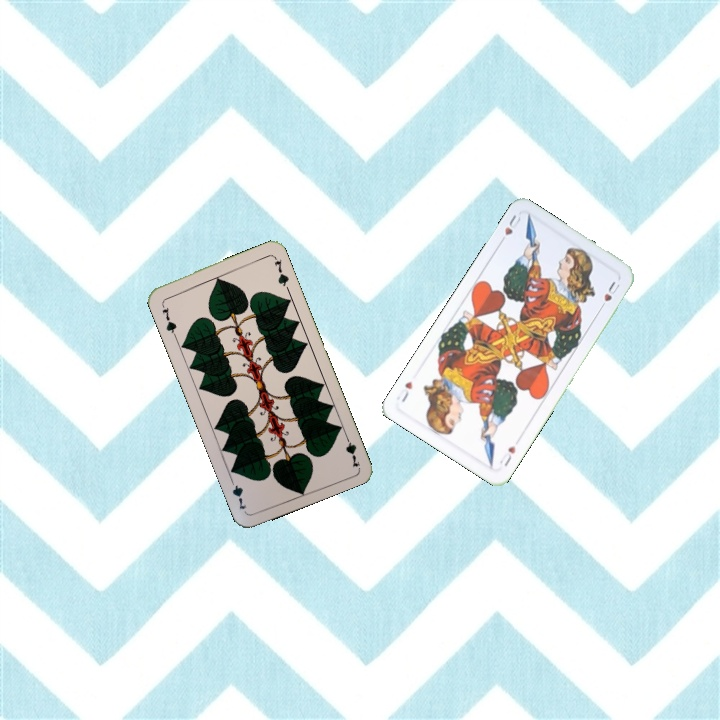G7: (340, 429, 362, 470), (157, 299, 179, 338)
HU: (495, 211, 523, 247), (495, 441, 518, 469)
